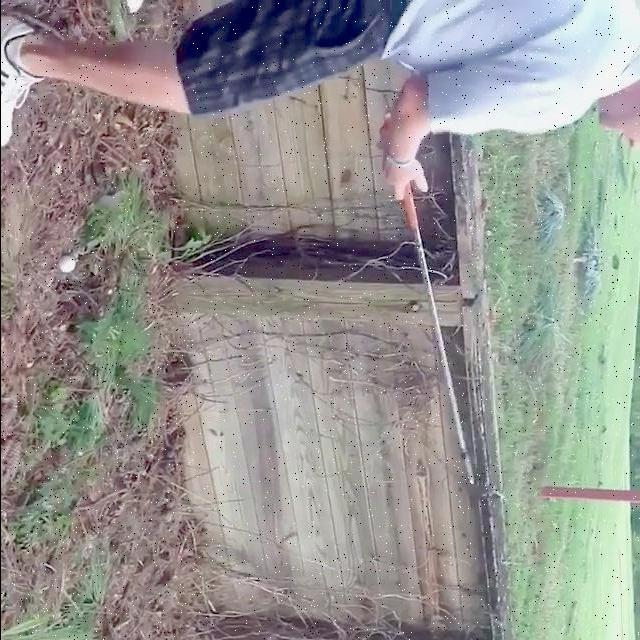ClubHandle: (403, 186, 505, 502)
ClubHead: (469, 483, 503, 501)
GolfBall: (58, 256, 75, 273)
